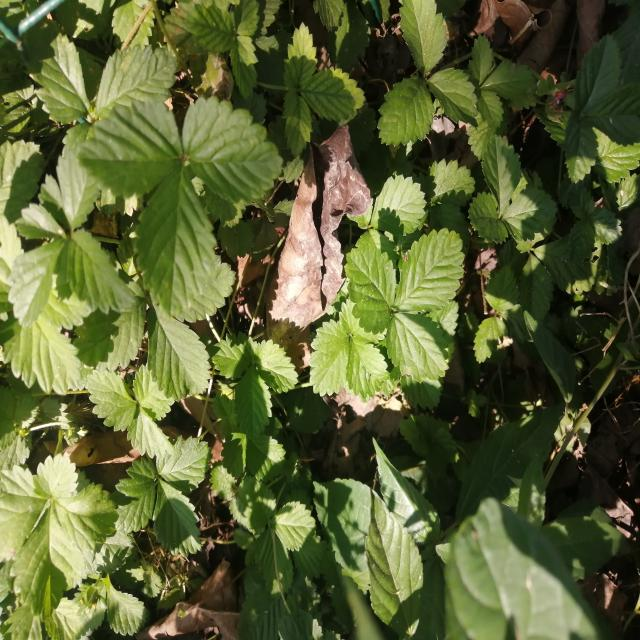Mock_strawberry: (65, 89, 278, 312), (324, 223, 478, 380)
